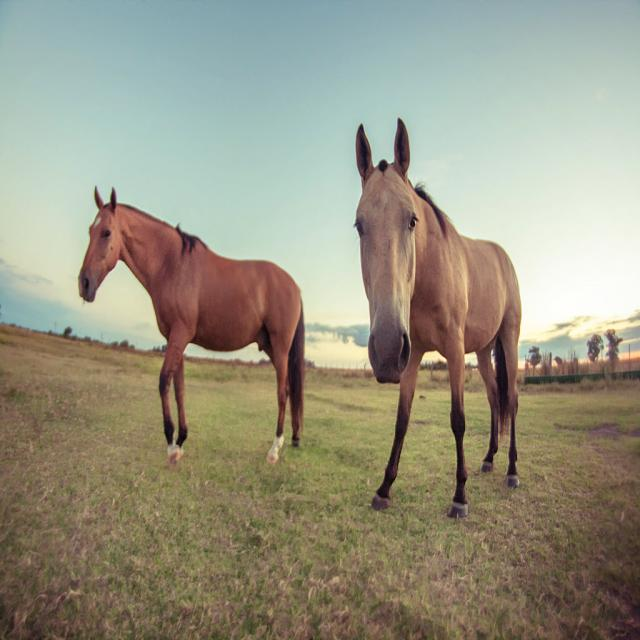Horse: (352, 117, 520, 522), (77, 185, 305, 469)
